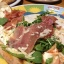pizza: (6, 14, 63, 61)
